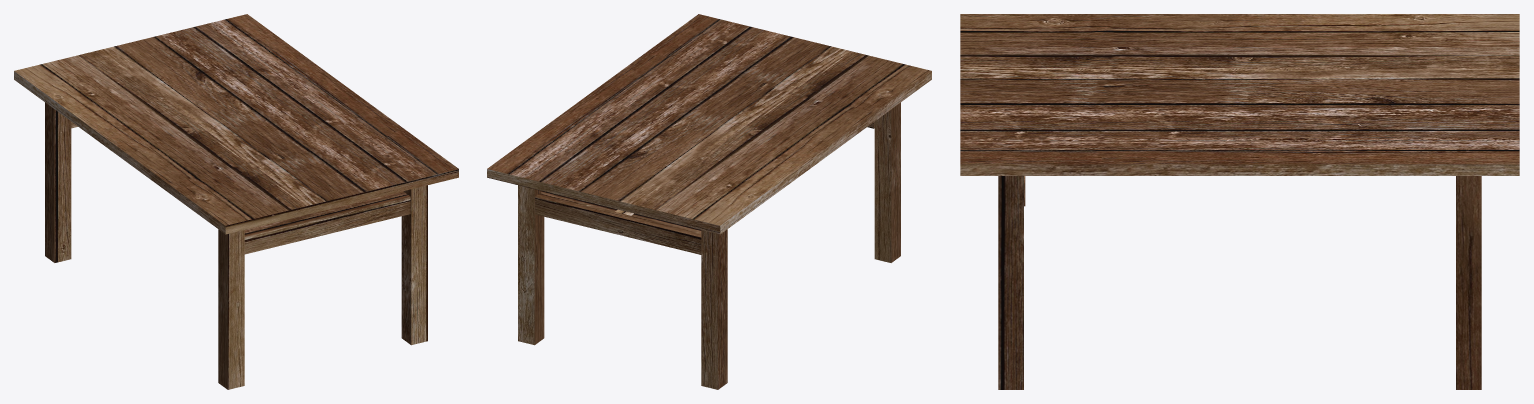
The model's file is Mesa.fbx.
The picture shows the model from 3 angles, left to right: view 1: azimuth 30°, elevation 25°; view 2: azimuth 150°, elevation 25°; view 3: azimuth 270°, elevation 25°; orthographic projection. The views are drawn at different scales.
Visible parts, largest first — view 1: Bein_4; view 2: Bein_4; view 3: Bein_4.
Boxes of the visible parts, x1,y1,x2,y2 form: Bein_4: [14, 14, 458, 389]; Bein_4: [487, 14, 931, 389]; Bein_4: [960, 14, 1519, 389].
Size of the model in its own units: 140 by 103 by 220.
Materials: 1 (1 with a texture image).
